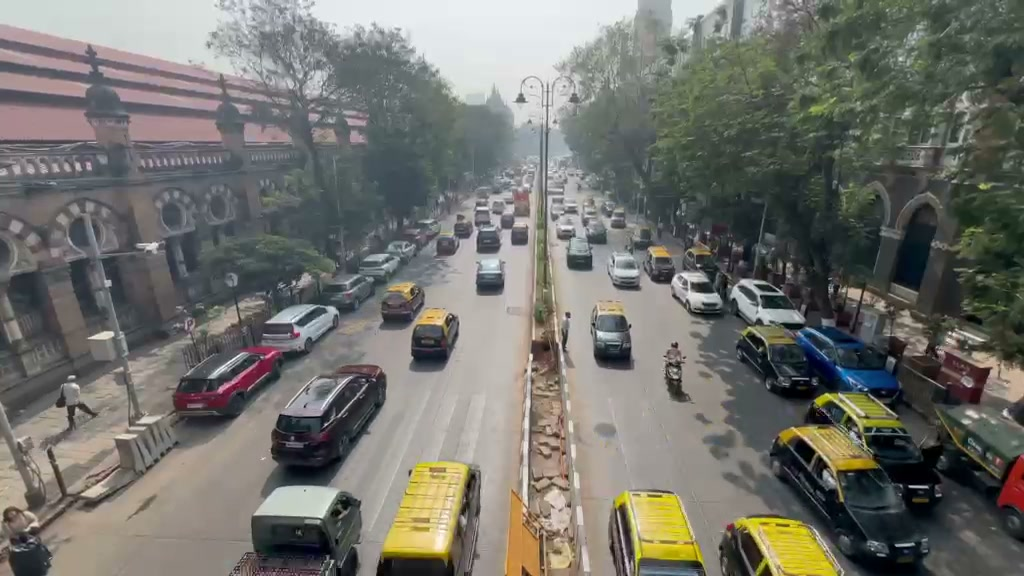bus: (608, 489, 707, 576), (717, 515, 846, 575)
car: (767, 421, 935, 570), (269, 367, 388, 469), (246, 484, 364, 574), (795, 324, 903, 404), (170, 344, 285, 418), (734, 324, 819, 397), (258, 303, 340, 355), (729, 279, 807, 328), (409, 306, 460, 363), (590, 298, 633, 362), (670, 269, 726, 317), (995, 451, 1024, 541), (318, 270, 376, 312), (379, 279, 426, 325), (605, 252, 642, 288), (358, 252, 401, 281), (475, 257, 505, 294), (566, 236, 594, 270), (584, 218, 609, 245), (476, 227, 501, 254), (434, 234, 459, 257), (555, 216, 579, 239)
pedestrian: (0, 506, 53, 575), (61, 372, 81, 431)
truck: (808, 389, 945, 508), (375, 460, 482, 576)
